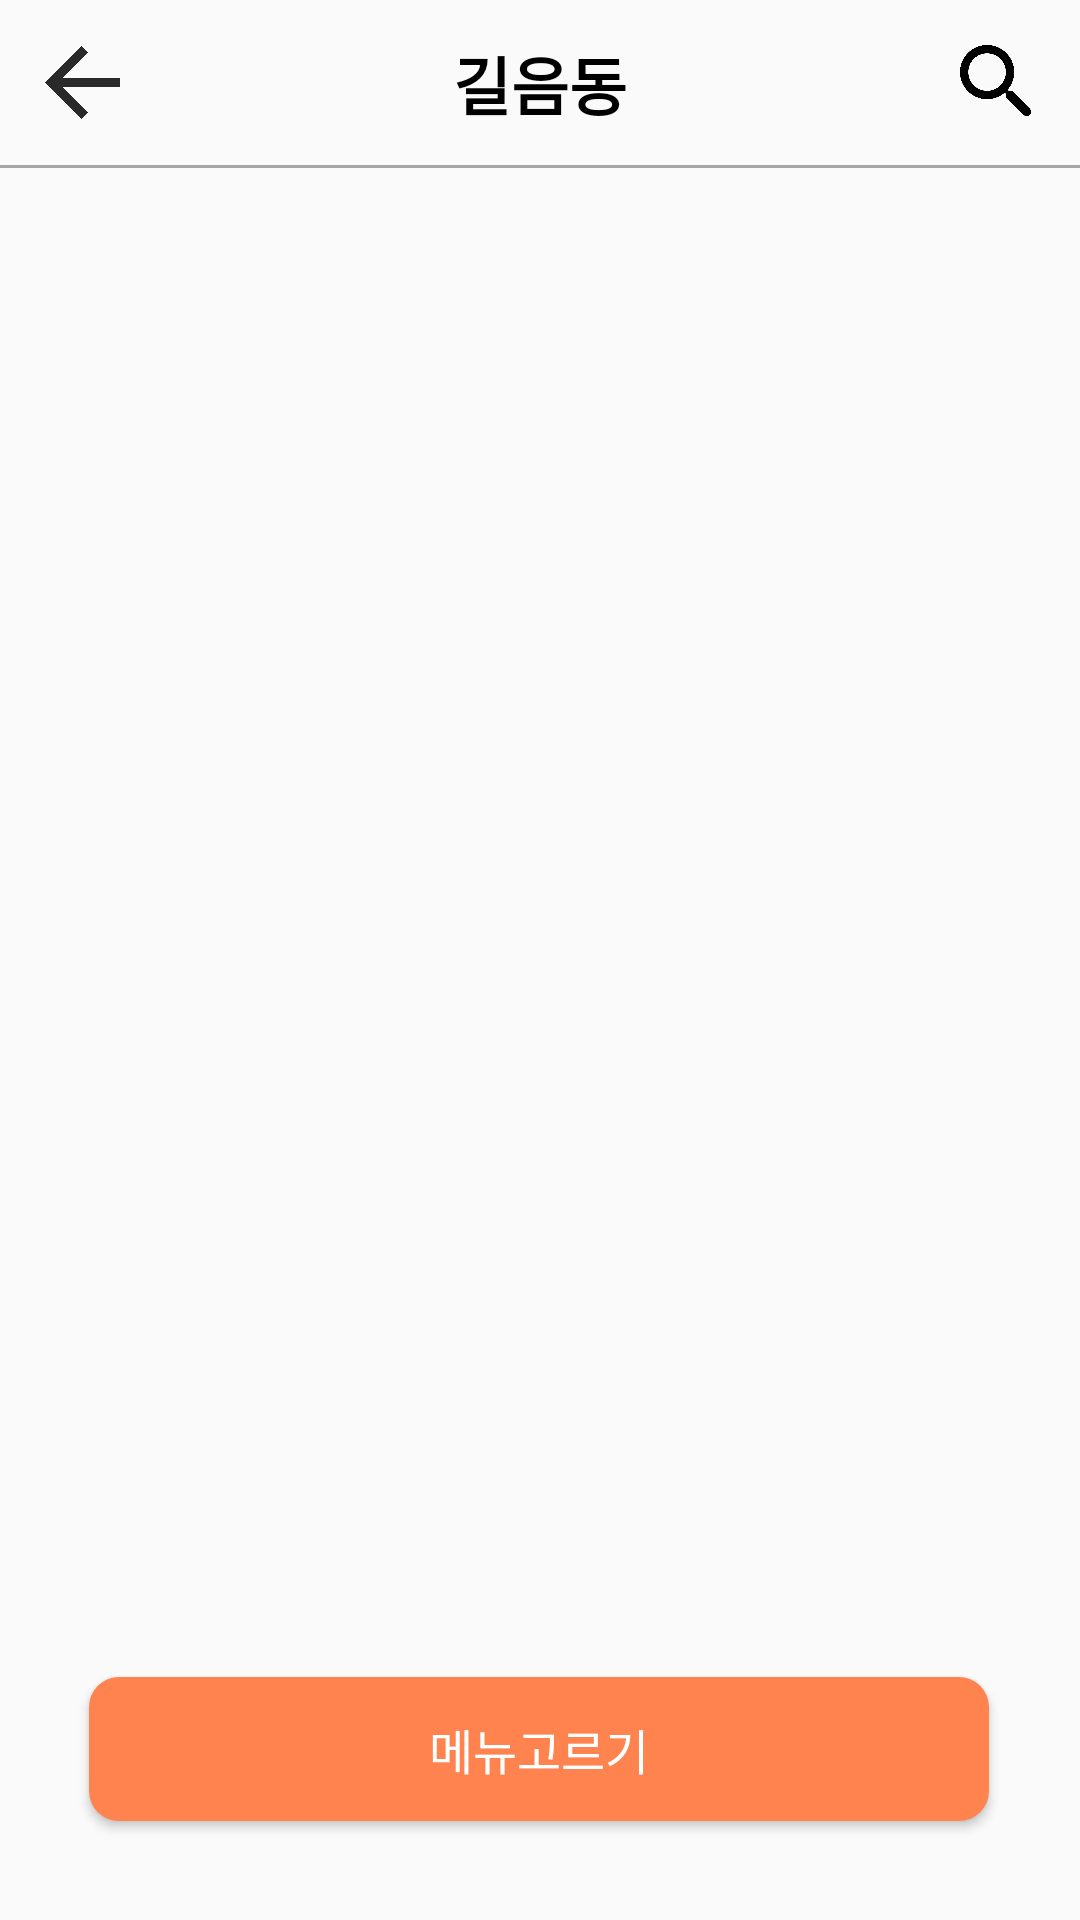

Named icons in this screenshot (1080x1920) and their bounding boxes, (x1=x1, y1=y1, x2=x2, y2=y2):
back hd: (x1=45, y1=46, x2=120, y2=119)
search hd: (x1=960, y1=45, x2=1031, y2=116)
